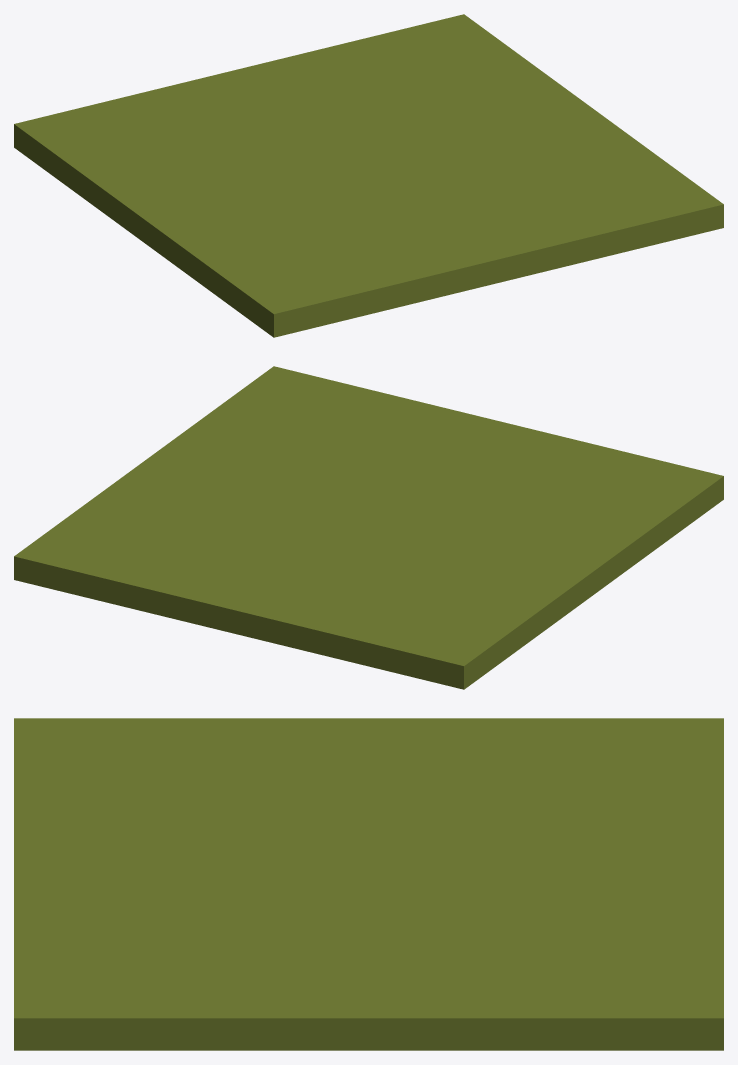
Rendered from Stairface.fbx.
3 renders of one model, top to bottom at view 1: azimuth 30°, elevation 25°; view 2: azimuth 150°, elevation 25°; view 3: azimuth 270°, elevation 25°, orthographic. The views are drawn at different scales.
Parts seen in each view (by area): view 1: Stair.002; view 2: Stair.002; view 3: Stair.002.
Boxes of the visible parts, x1=… form: Stair.002: x1=14, y1=14, x2=723, y2=337; Stair.002: x1=14, y1=366, x2=723, y2=689; Stair.002: x1=14, y1=718, x2=723, y2=1050.
Size of the model in its own units: 200 by 10 by 200.
